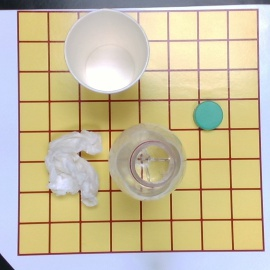bottle: (108, 123, 187, 203)
cup: (63, 11, 151, 94)
green: (194, 101, 223, 130)
